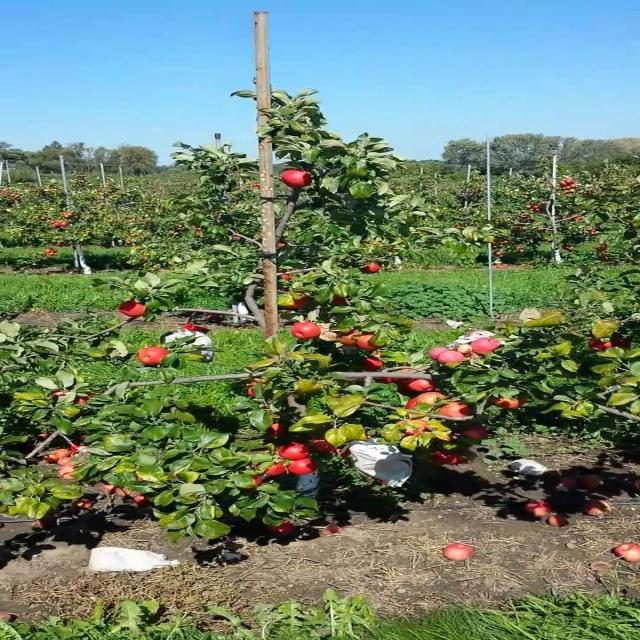apple: (141, 348, 171, 367), (120, 300, 149, 319), (291, 324, 322, 340), (397, 420, 428, 436), (269, 520, 299, 536), (284, 172, 313, 188), (284, 444, 313, 460), (440, 404, 473, 418), (433, 452, 468, 465), (291, 460, 318, 476), (497, 396, 526, 410), (419, 392, 450, 405), (255, 464, 286, 477), (440, 352, 468, 366), (340, 328, 363, 344), (461, 428, 491, 440), (476, 340, 501, 354), (340, 332, 363, 347), (461, 344, 482, 359), (412, 380, 436, 393), (312, 440, 334, 453), (589, 340, 612, 352), (63, 464, 80, 480), (362, 360, 384, 372), (362, 264, 384, 276), (49, 452, 71, 464), (291, 296, 311, 309), (269, 424, 286, 438), (362, 336, 377, 351), (77, 392, 94, 405), (461, 344, 478, 356), (70, 444, 87, 456), (611, 340, 633, 349), (248, 476, 265, 487), (340, 448, 356, 459), (433, 348, 448, 359), (49, 392, 69, 400), (404, 400, 420, 409), (333, 296, 348, 305), (284, 272, 295, 280), (248, 388, 256, 398), (376, 380, 391, 384), (276, 244, 286, 248)
